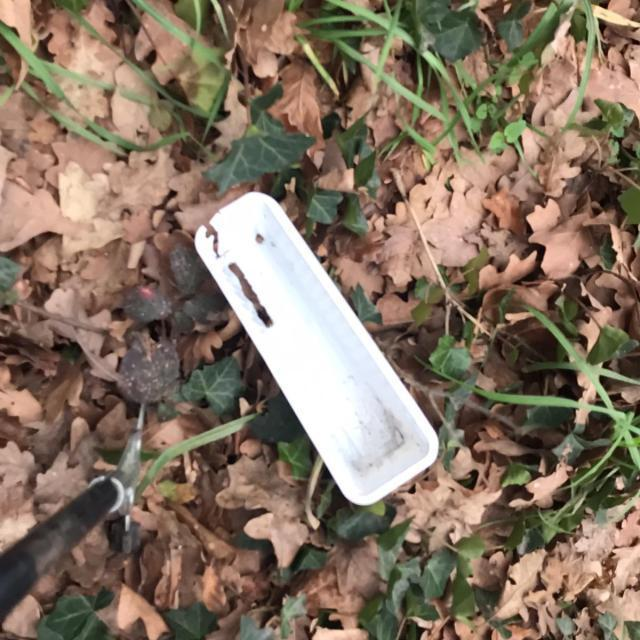Plastic: (192, 192, 441, 510)
